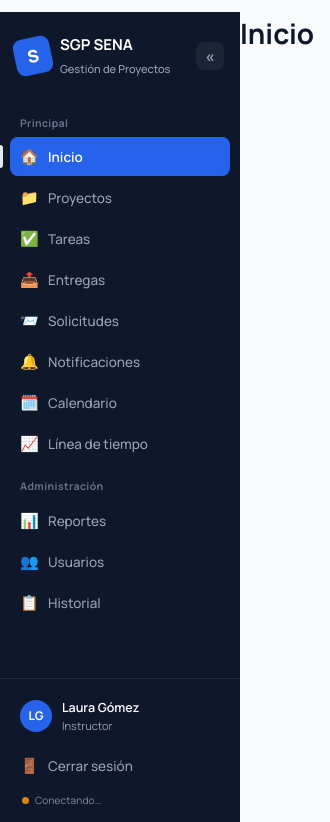
Test case: AppLayout › should remember the collapsed menu in this browser
Click the button named "Contraer menú" at (210, 56), box x1=196 y1=42 x2=224 y2=70
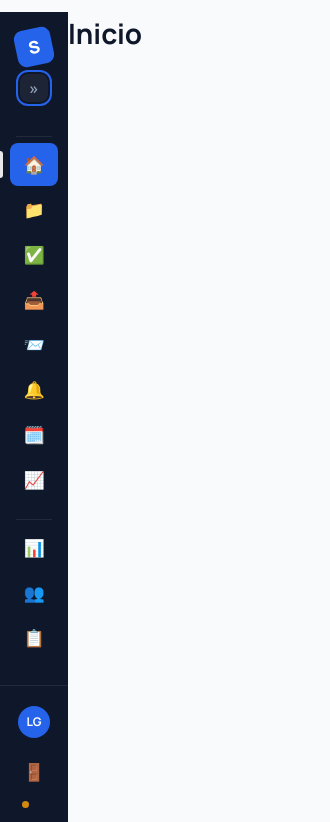
Expected: the button named "Expandir menú" is collapsed, x1=20 y1=74 x2=48 y2=102
